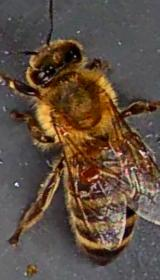varroa_mite: (75, 162, 106, 188)
